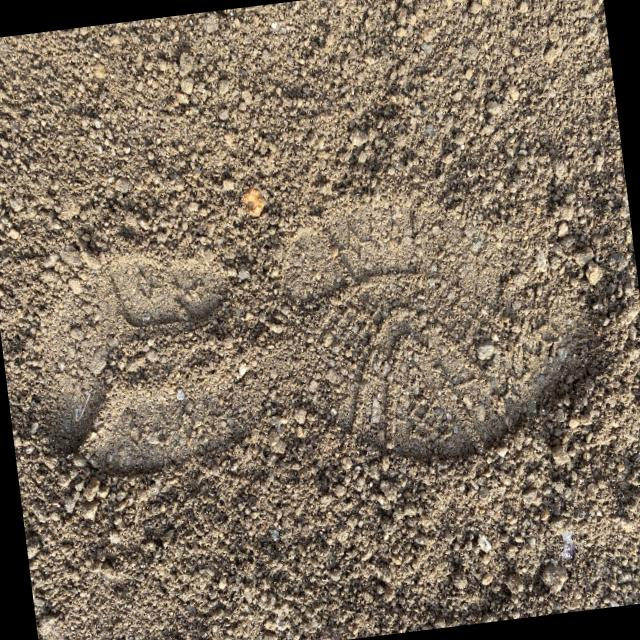human_footprint: (0, 108, 640, 524)
